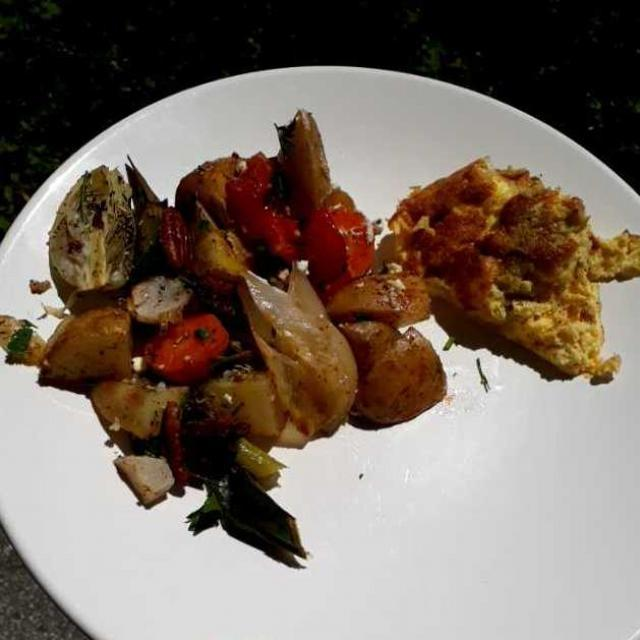mixed-vegetables: (39, 125, 374, 445)
omelette: (375, 170, 609, 429)
potatoes: (47, 280, 447, 469)
